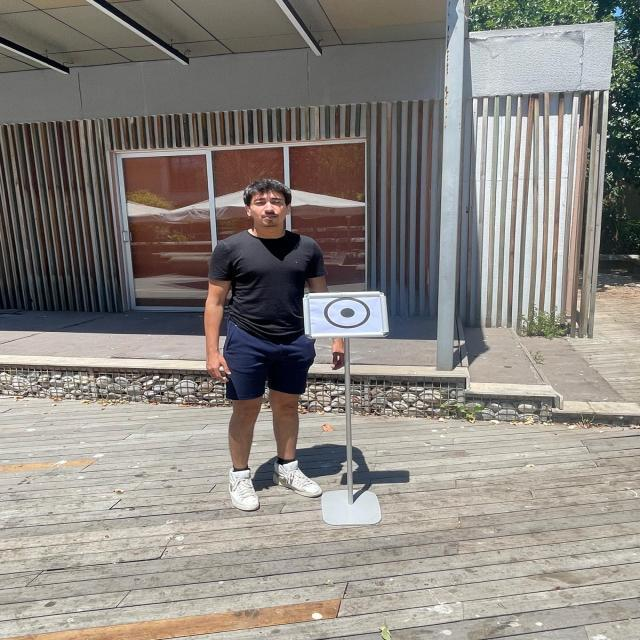Target: (290, 283, 406, 342)
inner: (336, 303, 358, 322)
